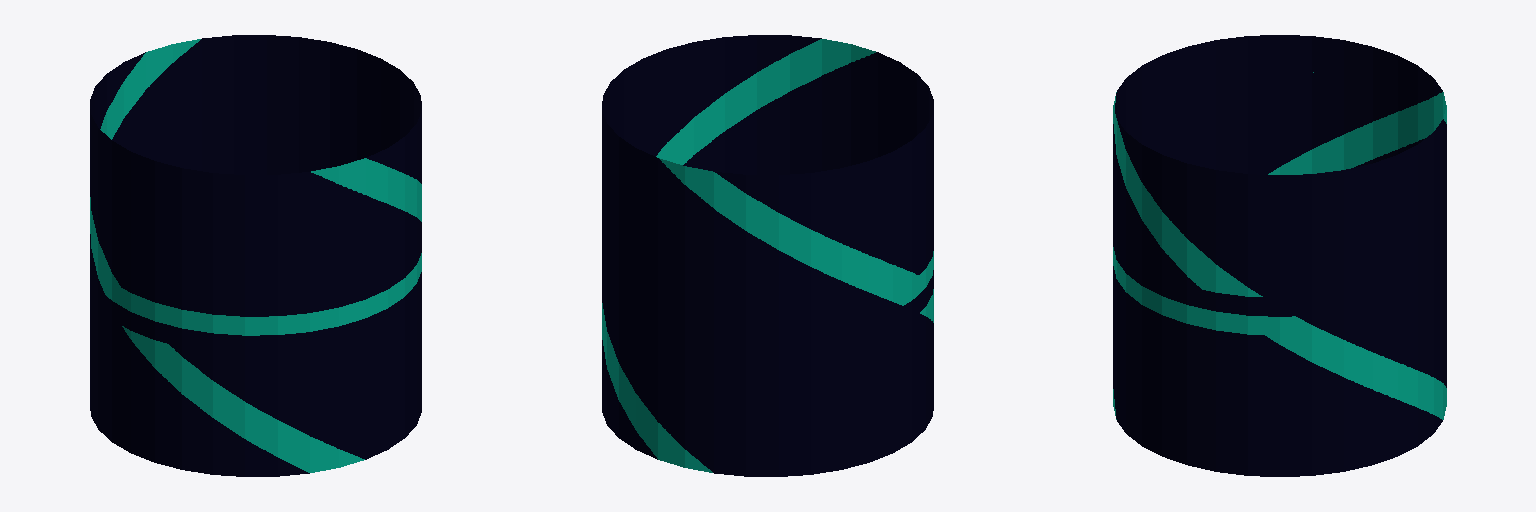
3 renders of one model, left to right at view 1: azimuth 30°, elevation 25°; view 2: azimuth 150°, elevation 25°; view 3: azimuth 270°, elevation 25°, orthographic.
Visible parts, largest first — view 1: Outside.001_円柱; view 2: Outside.001_円柱; view 3: Outside.001_円柱.
Boxes of the visible parts, <box> form: Outside.001_円柱: <box>90,35,421,476</box>; Outside.001_円柱: <box>602,35,933,476</box>; Outside.001_円柱: <box>1113,35,1446,476</box>.
Bounding box in the file's own units: 2 × 2 × 2.
1 materials, 1 textured.